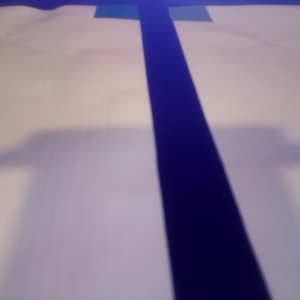bottom_right: (177, 1, 249, 21)
